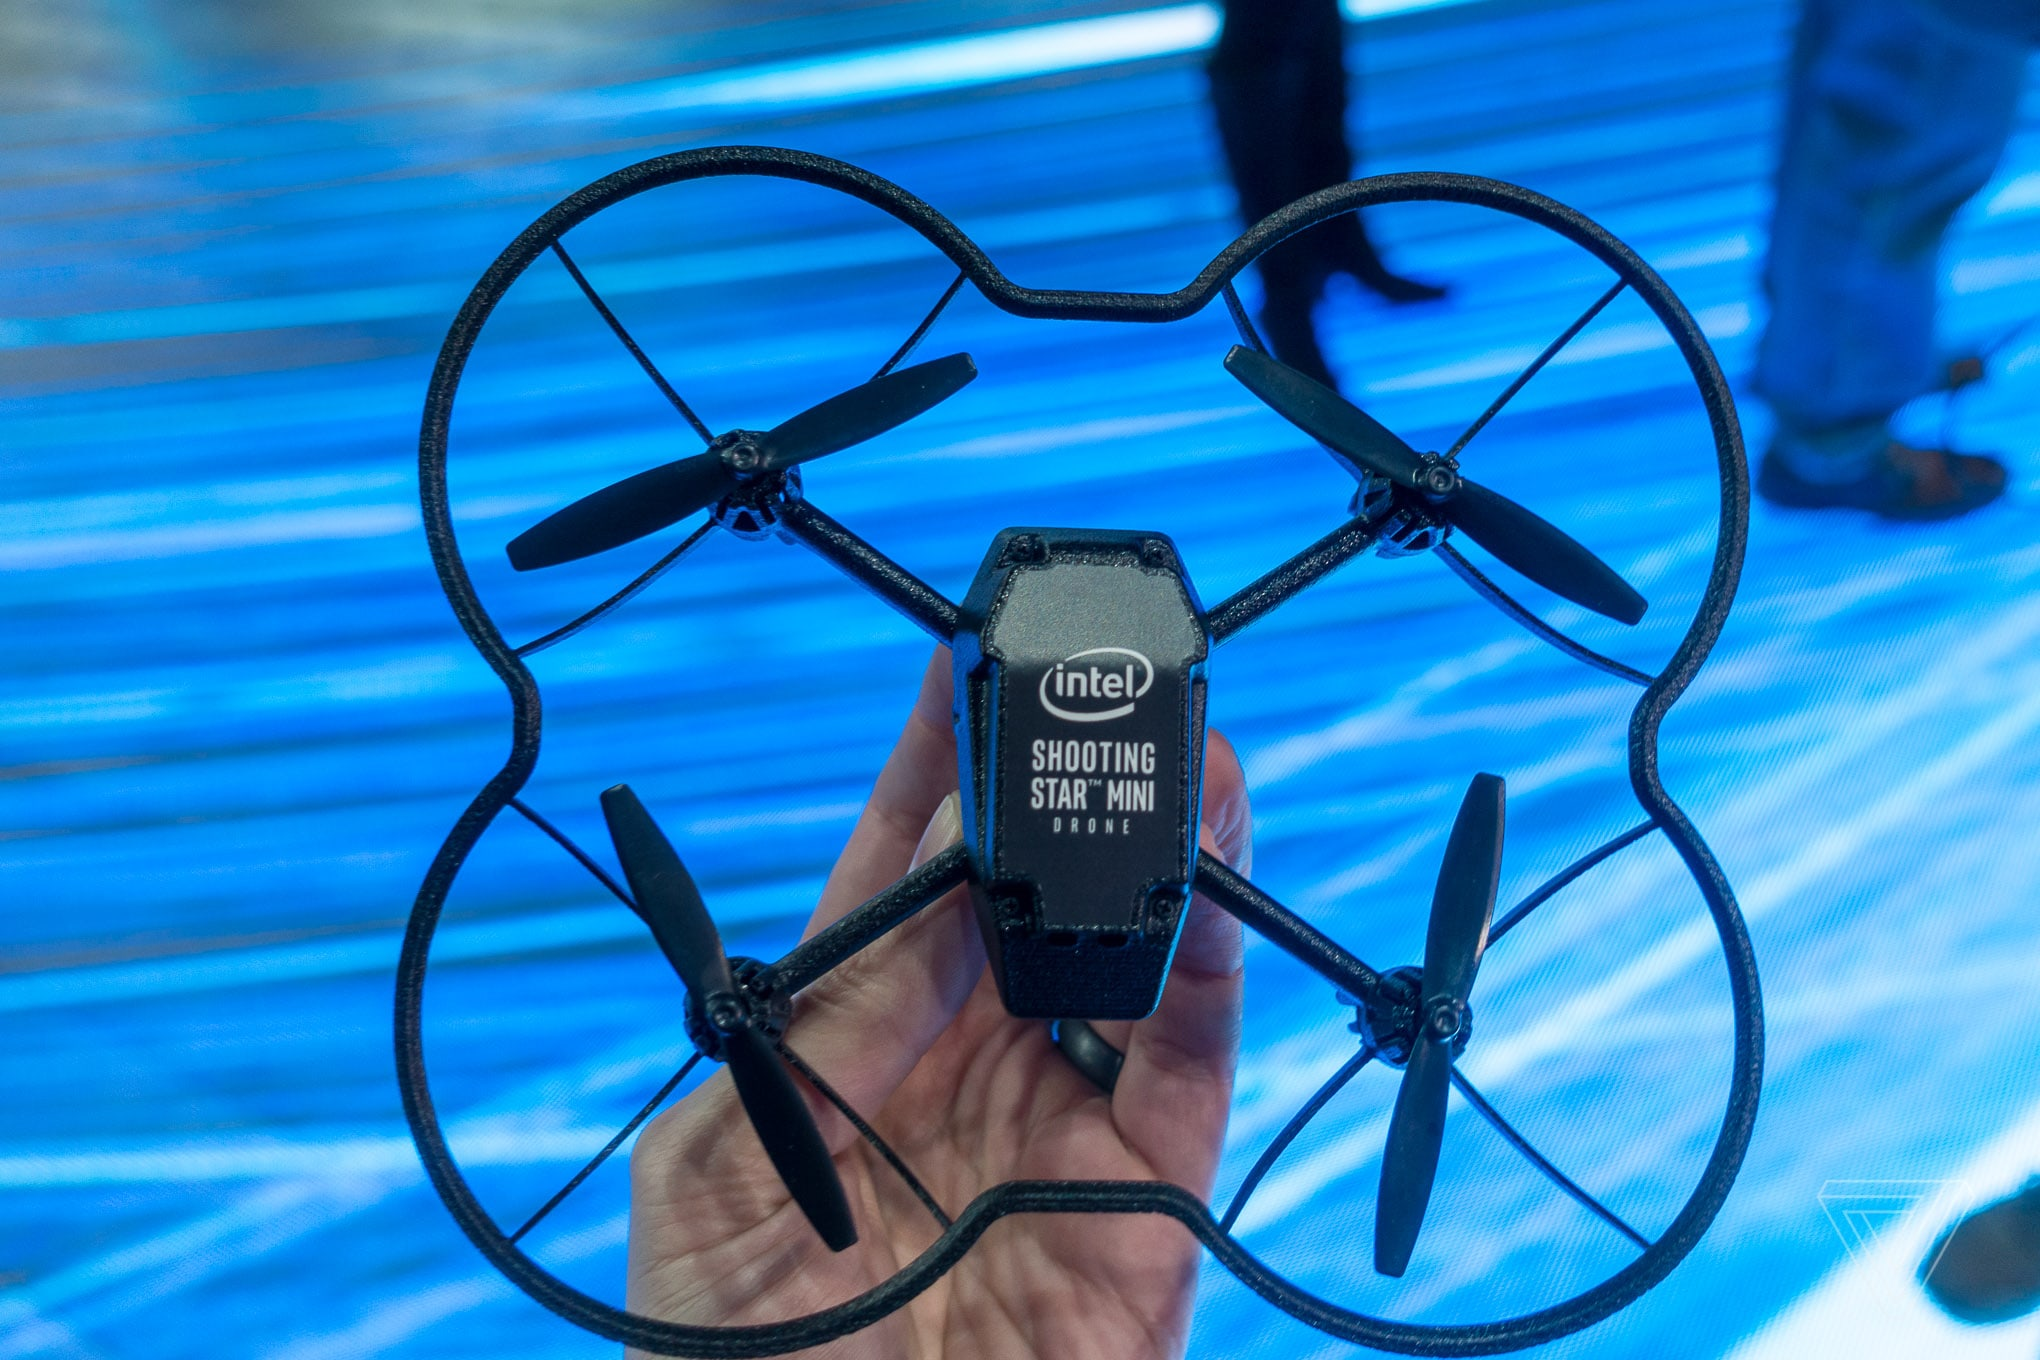drone: (390, 137, 1768, 1360)
person: (1751, 1, 2028, 540), (1155, 1, 1488, 333)
